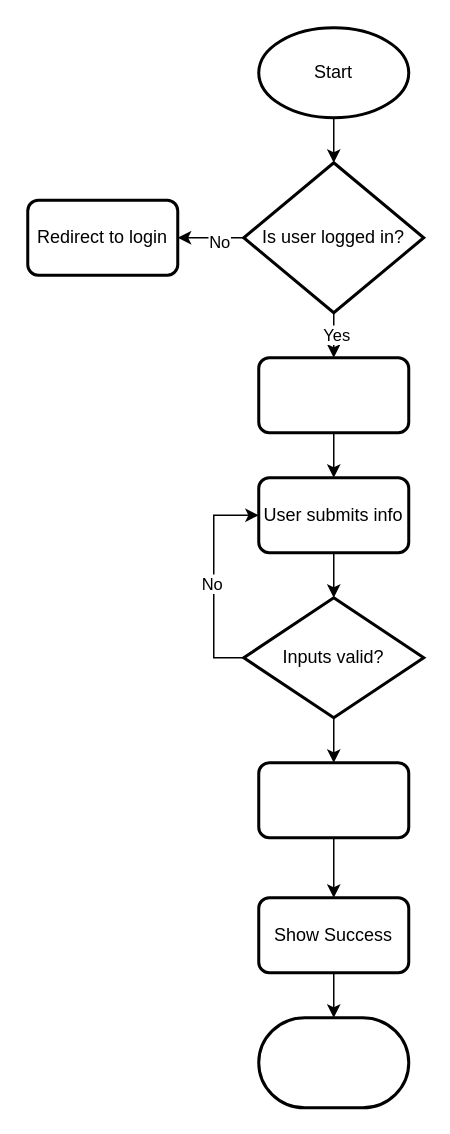
Image size: 450x1134. Some labels were removed from this diagram. The box of each missing label's shape, as (x1, y1, x2, y2) in pixels:
End: (256, 1016, 410, 1108)
Save Gallery: (256, 760, 410, 838)
Show create gallery form: (256, 356, 410, 434)
